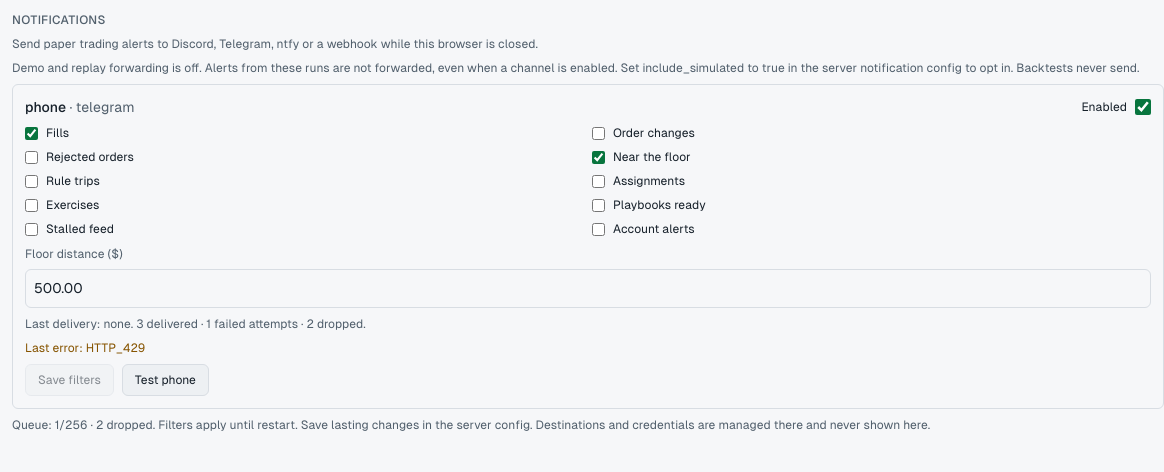
notification settings › does not display provider exceptions or claim a failed test delivered
What coordinates should you click on to do the following:
click the button "Test phone"
I would click on:
 (165, 380)
Its box is [122,364,209,396].
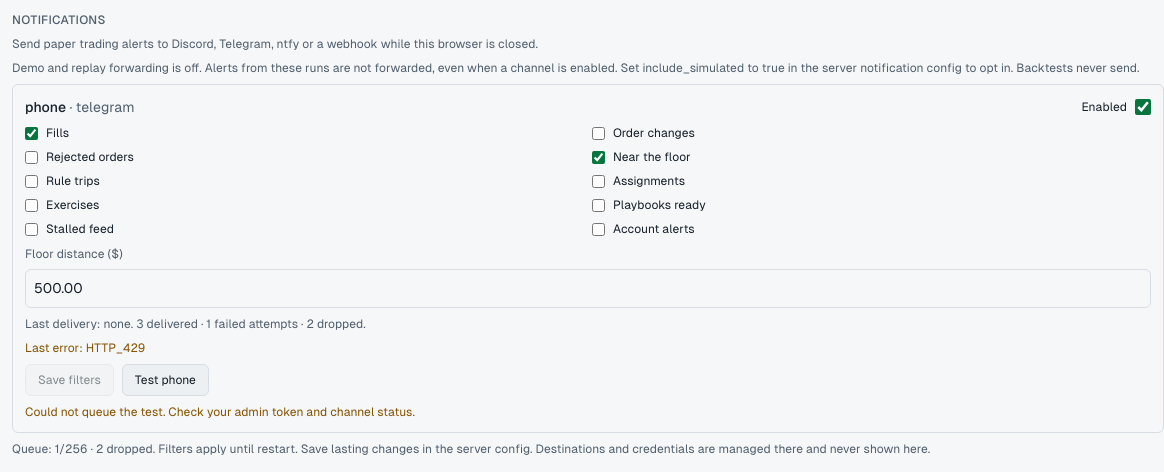
Now the message "Could not queue the test. Check your admin token and channel status." is shown, box [25,405,415,419]
